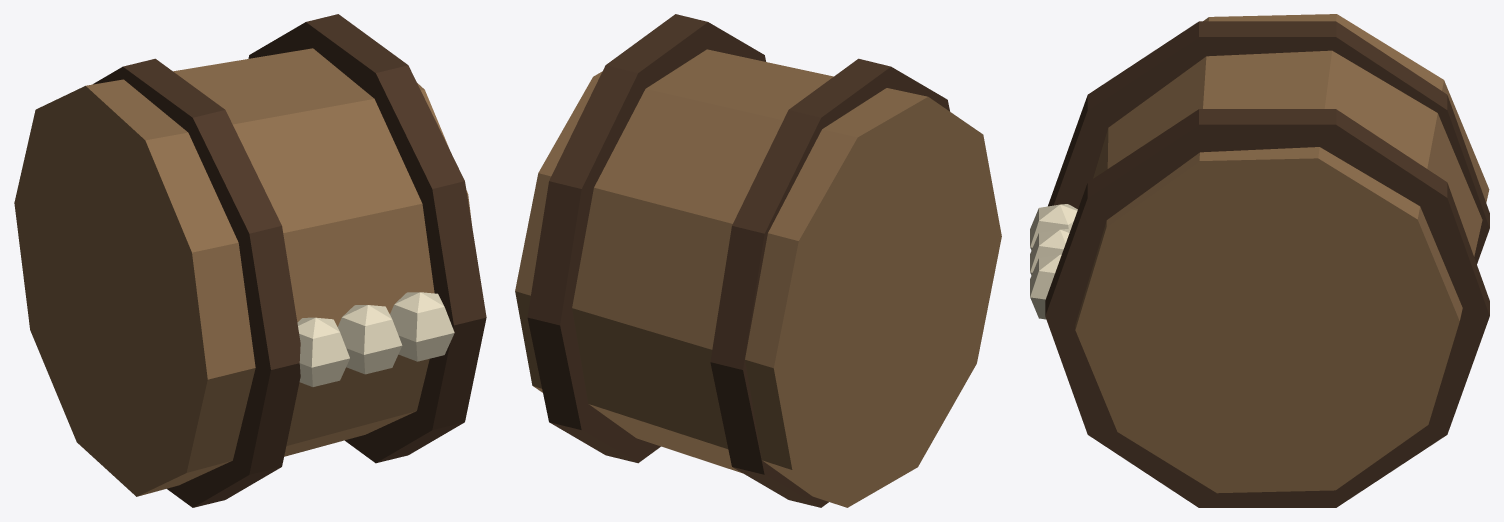
File: stonebrow_shaman_bracer_l.glb
3 views of the same model, side by side, from view 1: azimuth 30°, elevation 25°; view 2: azimuth 150°, elevation 25°; view 3: azimuth 270°, elevation 25° (orthographic).
Visible parts, largest first — view 1: stonebrow_shaman_bracer_l; view 2: stonebrow_shaman_bracer_l; view 3: stonebrow_shaman_bracer_l.
Boxes of the visible parts, bbox=[...] form: stonebrow_shaman_bracer_l: bbox=[14, 14, 486, 507]; stonebrow_shaman_bracer_l: bbox=[515, 14, 1001, 507]; stonebrow_shaman_bracer_l: bbox=[1030, 14, 1489, 507].
Size of the model in its own units: 0.2228 by 0.2853 by 0.3102.
